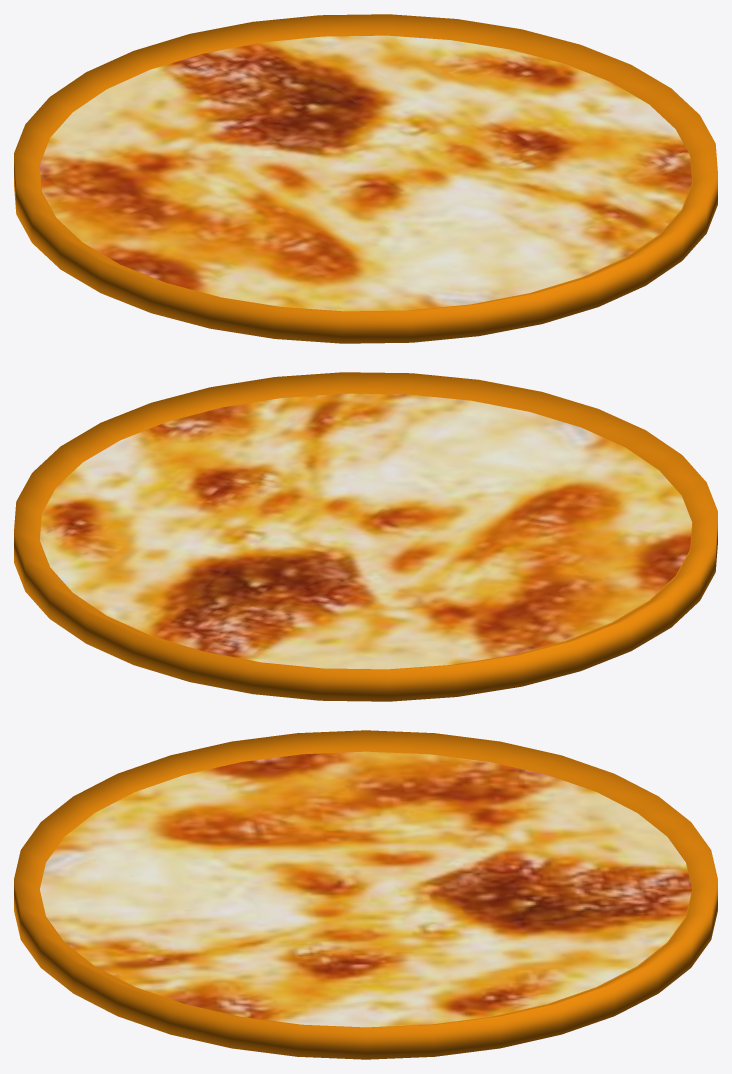
The model's file is Pizza.fbx.
The picture shows the model from 3 angles, top to bottom: view 1: azimuth 30°, elevation 25°; view 2: azimuth 150°, elevation 25°; view 3: azimuth 270°, elevation 25°; orthographic projection.
Parts seen in each view (by area): view 1: Cylinder.001, Cylinder; view 2: Cylinder.001, Cylinder; view 3: Cylinder.001, Cylinder.
Part boxes in pixels (bbox=[...]): Cylinder.001: bbox=[39, 35, 692, 311]; Cylinder: bbox=[14, 14, 717, 343]; Cylinder.001: bbox=[39, 393, 692, 669]; Cylinder: bbox=[14, 372, 717, 701]; Cylinder.001: bbox=[40, 751, 691, 1027]; Cylinder: bbox=[14, 730, 717, 1059].
Size of the model in its own units: 114 by 5.72 by 114.
Materials: 2 (1 with a texture image).
